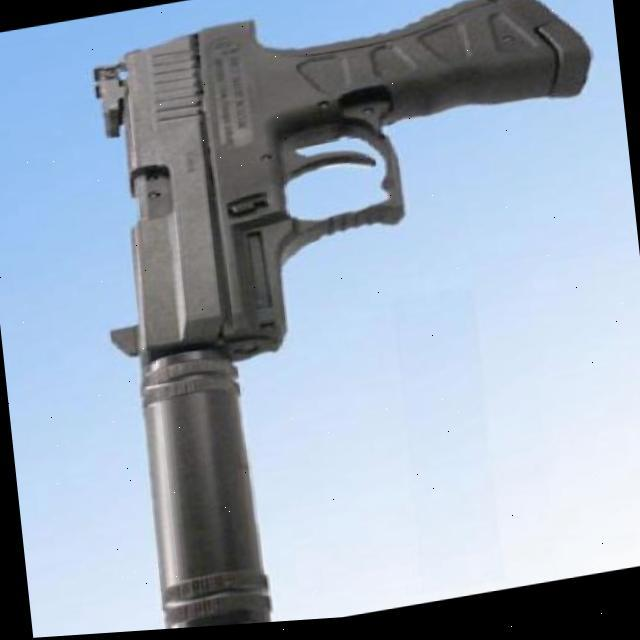gun: (74, 0, 640, 636)
